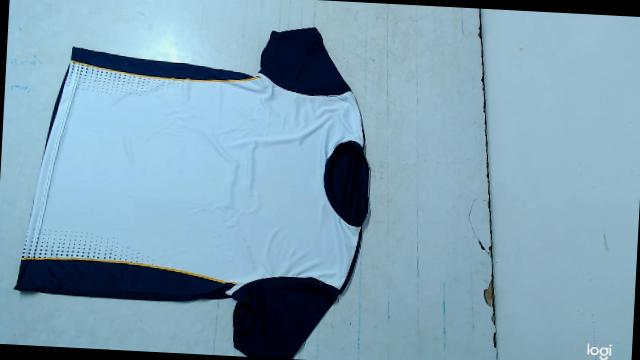new-garment: (14, 28, 368, 358)
